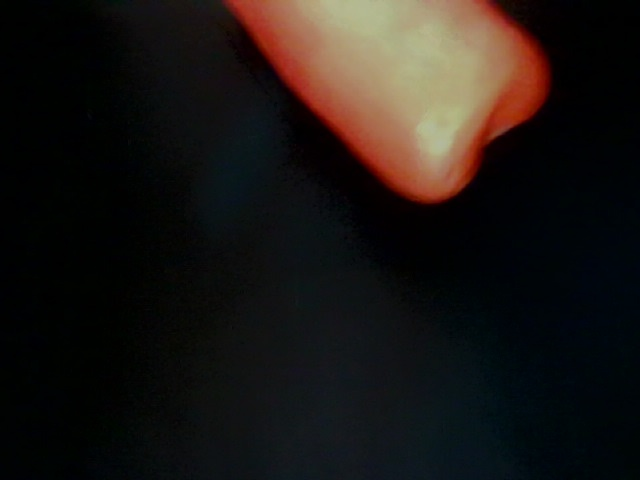CYLJ: (225, 1, 553, 208)
